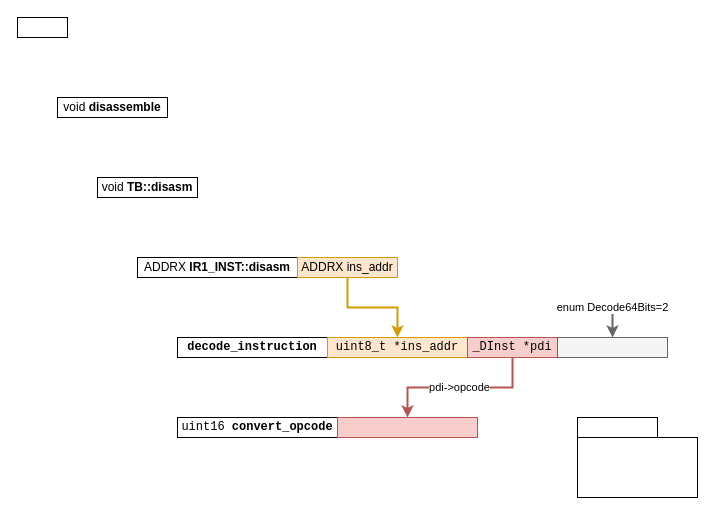
Image size: 715x515. Some labels were removed from this diagram. Here are the shapes that lost their labels. From the top down, the centre of each, then its label:
the point at 42,27: int main
the point at 612,347: _DecodeType dt
the point at 407,427: uint16 op_distorm
the point at 617,427: ADDRX _addr
